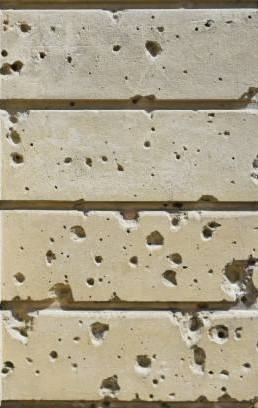Spalling: (1, 11, 258, 104), (1, 110, 258, 200), (1, 210, 258, 300), (1, 310, 258, 400)
